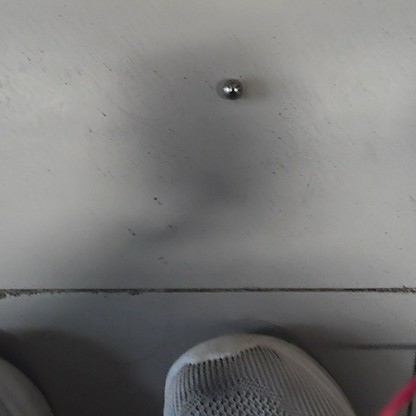ironball: (216, 75, 245, 101)
